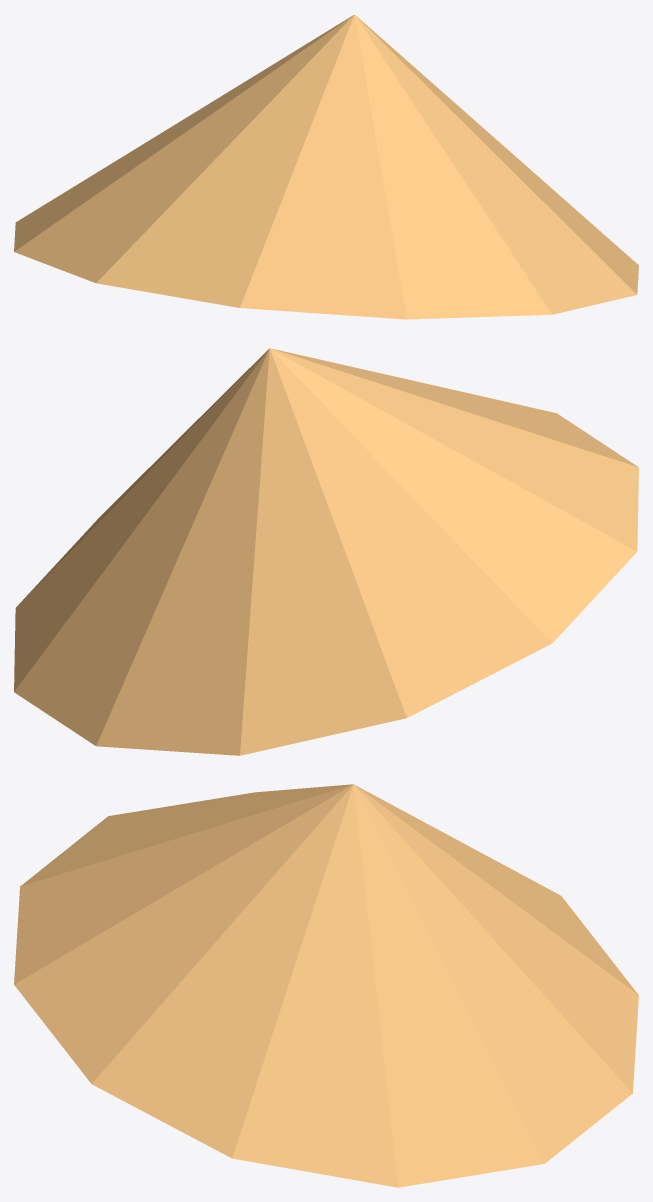
Rendered from hatmodel.fbx.
The picture shows the model from 3 angles, top to bottom: view 1: azimuth 30°, elevation 25°; view 2: azimuth 150°, elevation 25°; view 3: azimuth 270°, elevation 25°; orthographic projection. The views are drawn at different scales.
Parts seen in each view (by area): view 1: mesh_1103314043; view 2: mesh_1103314043; view 3: mesh_1103314043.
Boxes of the visible parts, x1,y1,x2,y2 form: mesh_1103314043: [14, 14, 638, 319]; mesh_1103314043: [14, 348, 638, 755]; mesh_1103314043: [14, 784, 638, 1187].
Size of the model in its own units: 13.73 by 7.44 by 13.85.
